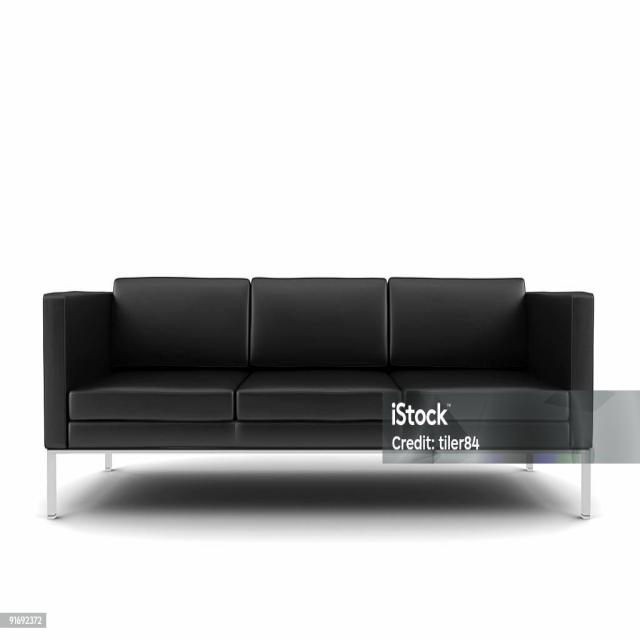back_cushion: (111, 278, 534, 368)
base: (69, 420, 569, 450)
left_arm: (526, 292, 593, 448)
legs: (47, 450, 61, 518), (580, 450, 591, 518), (104, 452, 112, 470), (526, 454, 532, 470)
right_arm: (44, 292, 111, 449)
seat_cushion: (69, 371, 569, 425)
stallion-sofa1: (44, 277, 596, 518)
